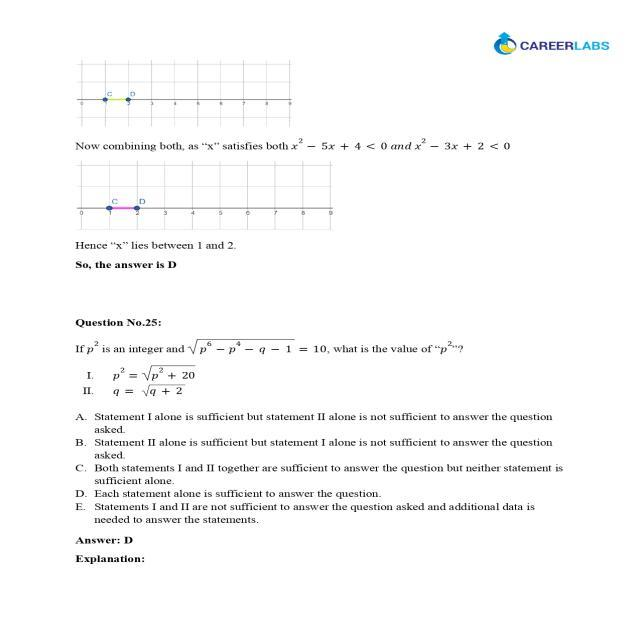Answer_Block: (58, 403, 595, 528)
Description: (58, 58, 595, 274), (58, 528, 595, 564)
Question_Answer_Block: (58, 316, 595, 528)
Question_Block: (58, 315, 595, 403)
Question_Paper_Area: (58, 58, 595, 564)
